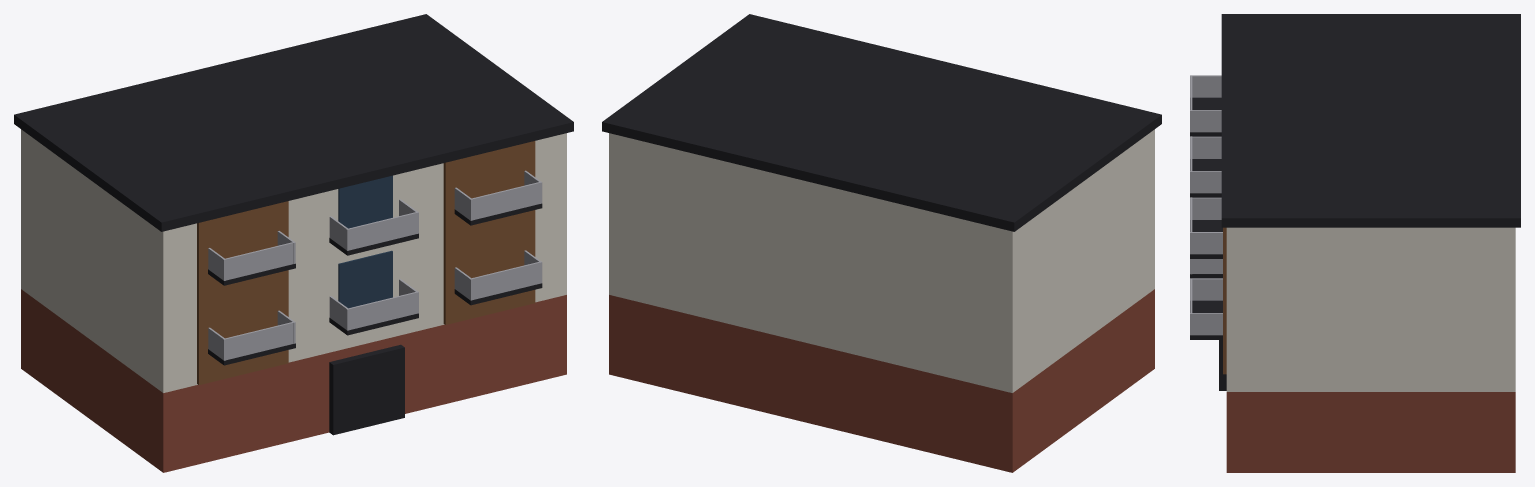
Rendered from building_london_s4_modern_flats.glb.
3 views of the same model, side by side, from view 1: azimuth 30°, elevation 25°; view 2: azimuth 150°, elevation 25°; view 3: azimuth 270°, elevation 25° (orthographic).
Parts seen in each view (by area): view 1: building_london_s4_modern_flats; view 2: building_london_s4_modern_flats; view 3: building_london_s4_modern_flats.
Part boxes in pixels (x1,y1,x2,y2): building_london_s4_modern_flats: [14, 14, 573, 472]; building_london_s4_modern_flats: [602, 14, 1161, 472]; building_london_s4_modern_flats: [1190, 14, 1520, 472].
Size of the model in its own units: 18.4 by 10.8 by 12.6.
Materials: 1 (1 with a texture image).
